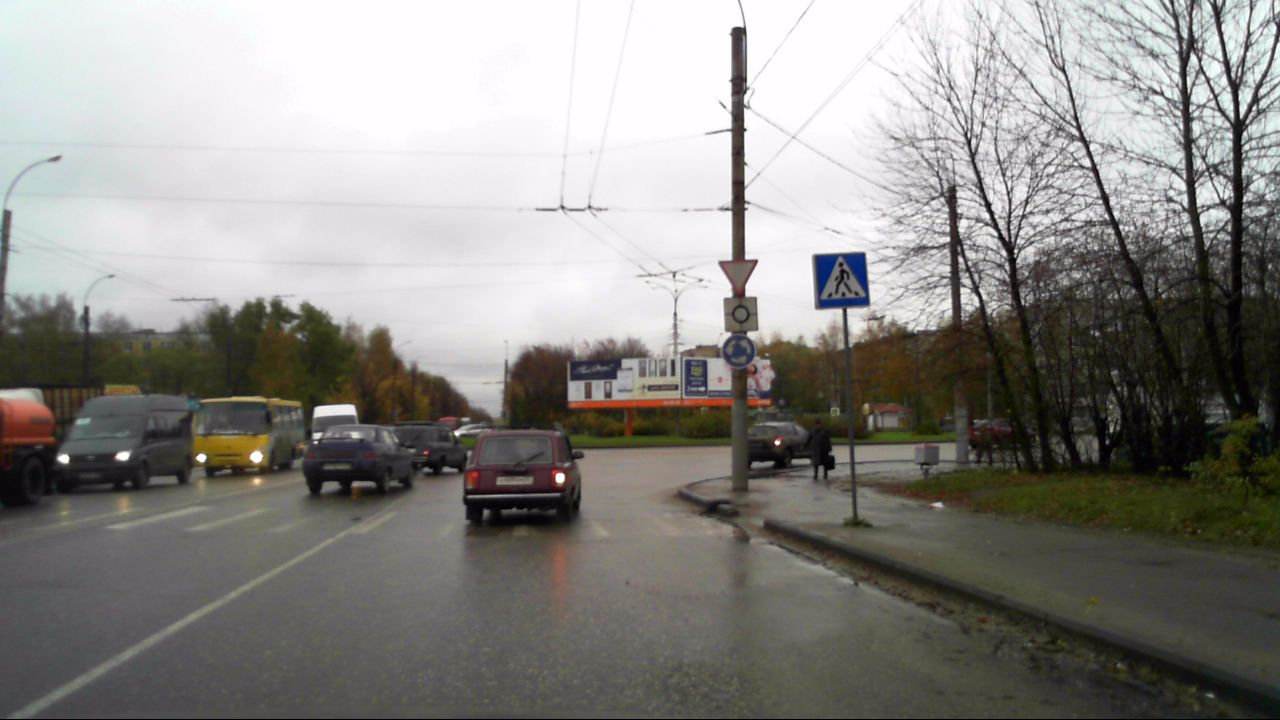Round-About: (721, 333, 756, 368)
